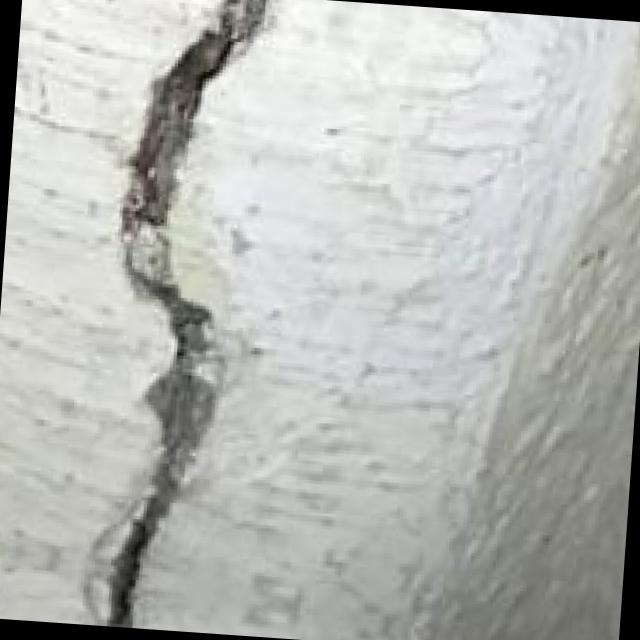crack: (7, 0, 335, 635)
